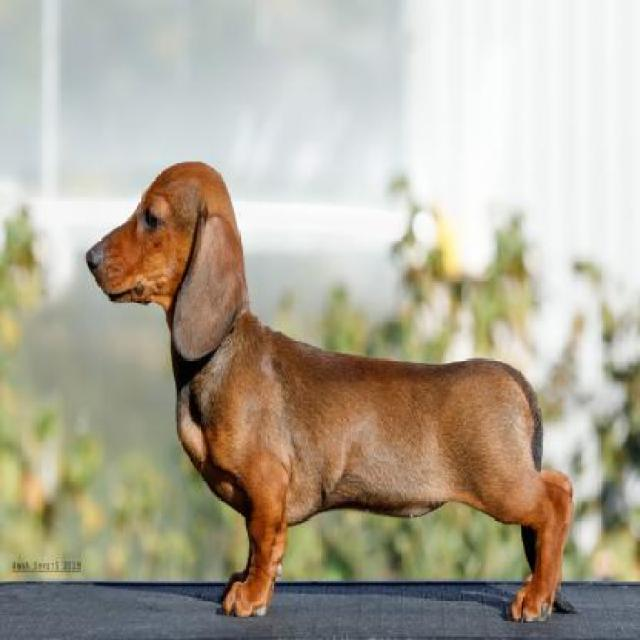Dog: (84, 151, 578, 626)
